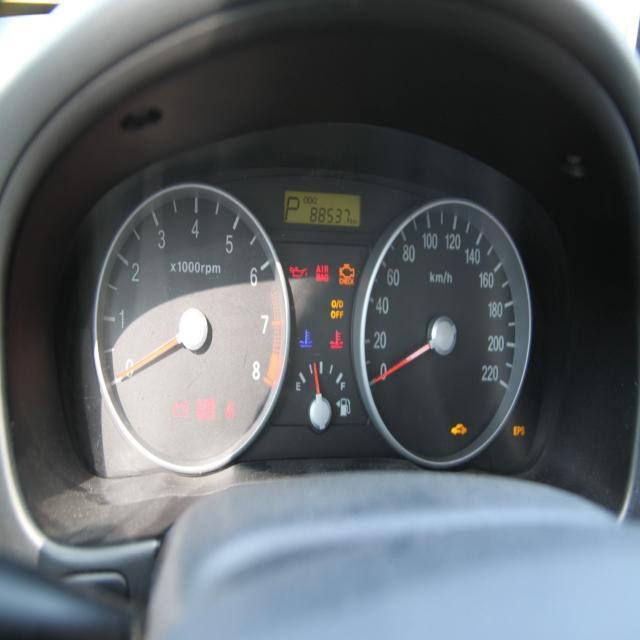Engine cooling system: (330, 328, 342, 348)
